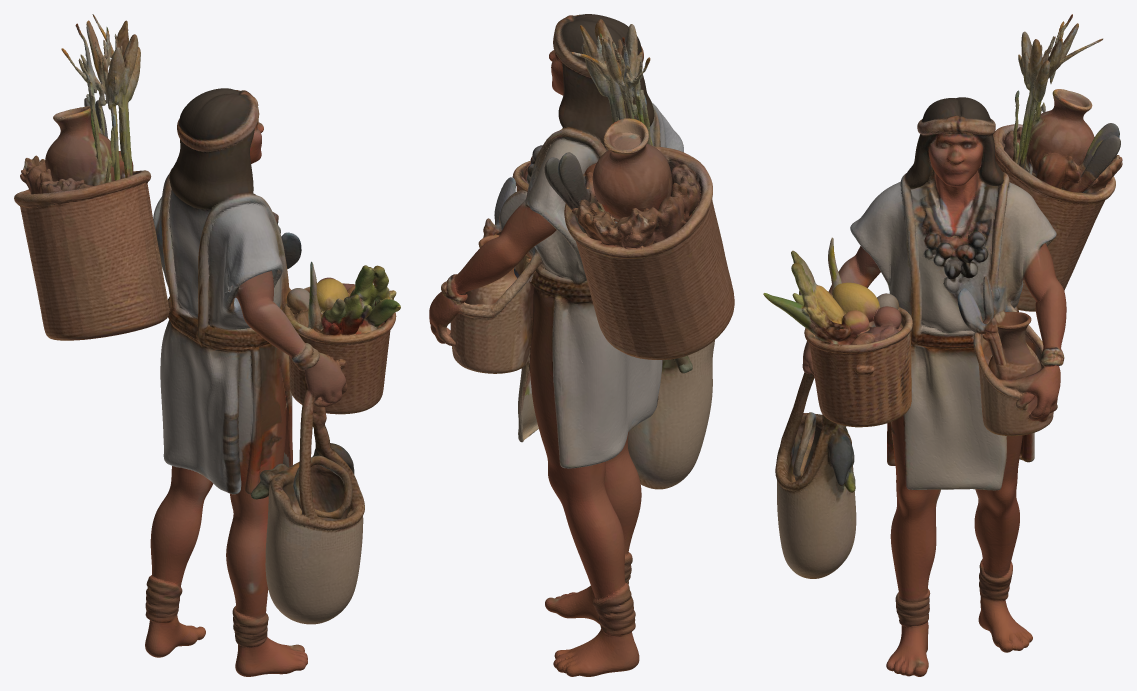
The model's file is economia_chavin.glb.
The picture shows the model from 3 angles, left to right: view 1: azimuth 30°, elevation 25°; view 2: azimuth 150°, elevation 25°; view 3: azimuth 270°, elevation 25°; orthographic projection. The views are drawn at different scales.
Visible parts, largest first — view 1: tripo_node_d3d81938-2204-4b77-81af-0020bcbb5844; view 2: tripo_node_d3d81938-2204-4b77-81af-0020bcbb5844; view 3: tripo_node_d3d81938-2204-4b77-81af-0020bcbb5844.
Boxes of the visible parts, left/top/right/bottom form: tripo_node_d3d81938-2204-4b77-81af-0020bcbb5844: left=14, top=14, right=400, bottom=676; tripo_node_d3d81938-2204-4b77-81af-0020bcbb5844: left=429, top=14, right=734, bottom=676; tripo_node_d3d81938-2204-4b77-81af-0020bcbb5844: left=763, top=14, right=1122, bottom=676.
Bounding box in the file's own units: 0.4507 × 1 × 0.5447.
1 material, 1 textured.
